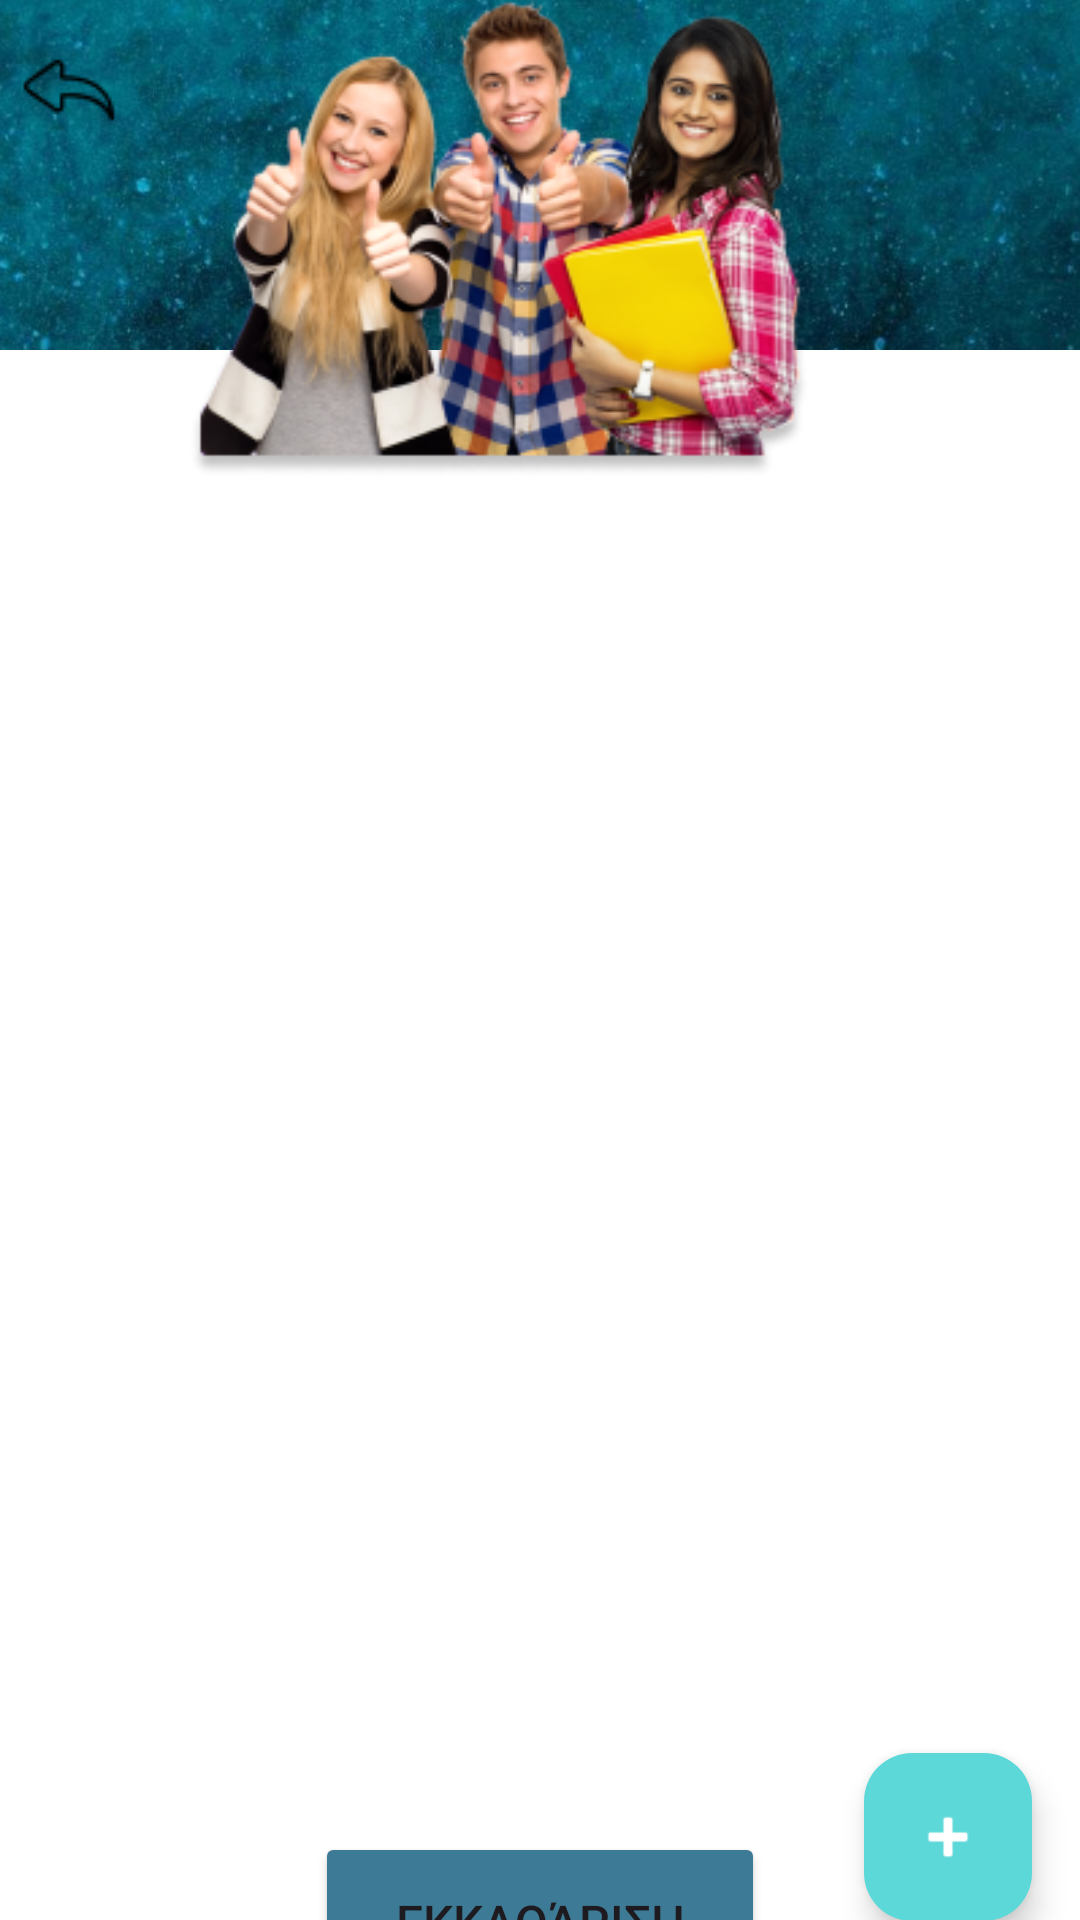

Icons on this 1080px x 1920px Android screen, each with the point to tap as [x,y]:
add: [948,1836]
